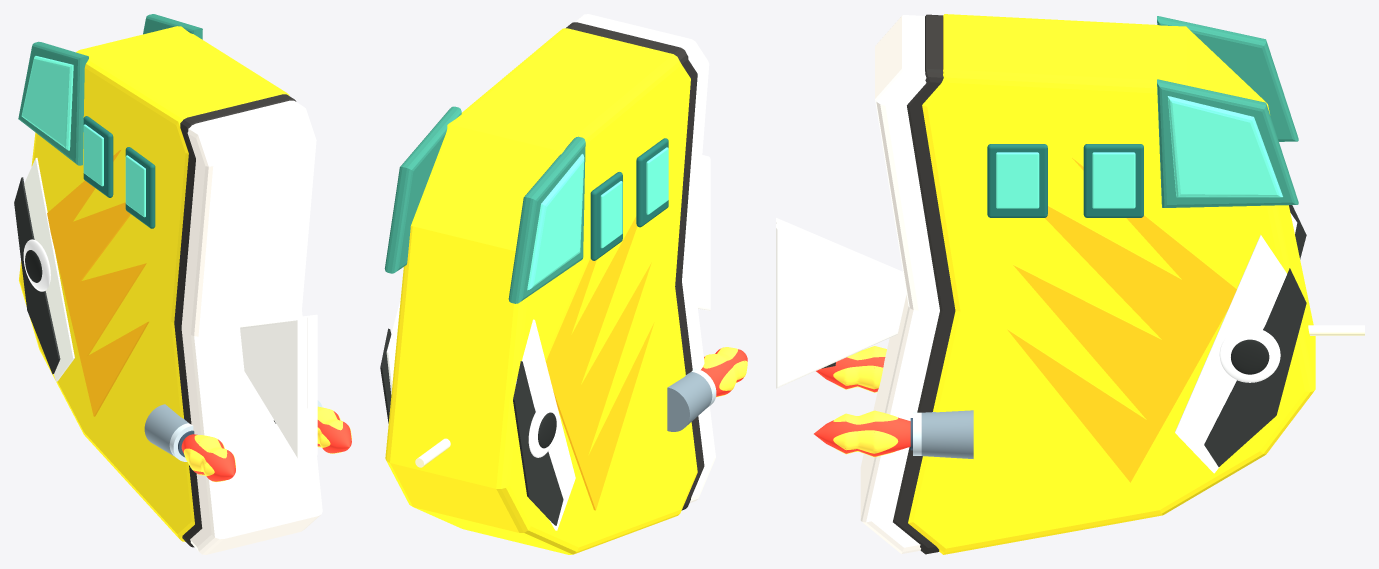
File: ship-20.glb
3 renders of one model, left to right at view 1: azimuth 30°, elevation 25°; view 2: azimuth 150°, elevation 25°; view 3: azimuth 270°, elevation 25°, orthographic. The views are drawn at different scales.
Visible parts, largest first — view 1: 하와이안, engine-flame (×2); view 2: 하와이안, engine-flame; view 3: 하와이안, engine-flame (×2).
Part boxes in pixels (x1,y1,x2,y2): 하와이안: [14, 14, 322, 554]; engine-flame (×2): [181, 406, 351, 481]; 하와이안: [380, 14, 716, 554]; engine-flame: [701, 347, 747, 397]; 하와이안: [776, 14, 1364, 554]; engine-flame (×2): [814, 346, 910, 457].
Size of the model in its own units: 9.32 by 24.96 by 27.
